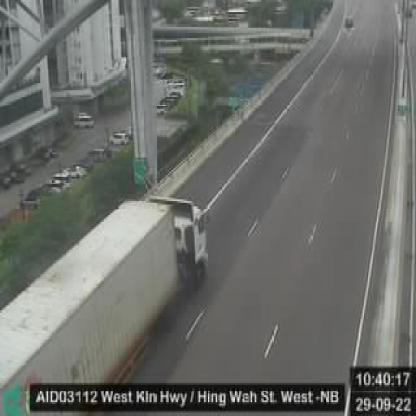Car: (105, 130, 130, 149), (70, 111, 98, 125), (341, 10, 355, 32), (157, 97, 178, 109), (162, 88, 184, 99), (149, 104, 169, 116)
Truck: (0, 175, 214, 414)
